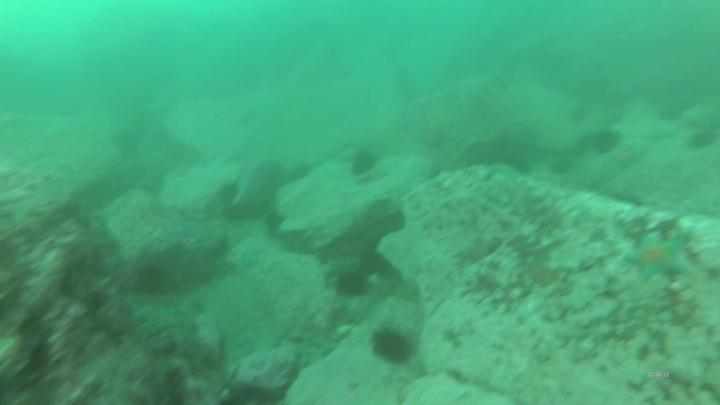echinus: (374, 332, 410, 361), (336, 271, 370, 298), (139, 266, 165, 294), (594, 127, 619, 155), (354, 153, 377, 174), (219, 183, 239, 206), (264, 214, 284, 233)
starfish: (626, 233, 686, 277)
